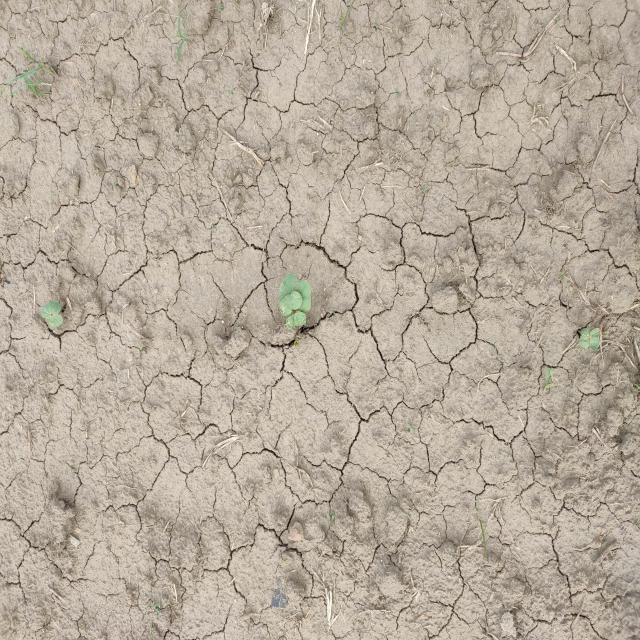seedling: (278, 273, 298, 302), (279, 291, 302, 316), (297, 279, 311, 313), (286, 312, 307, 330), (40, 301, 61, 318), (589, 328, 600, 351), (45, 314, 63, 327), (579, 328, 590, 349)
